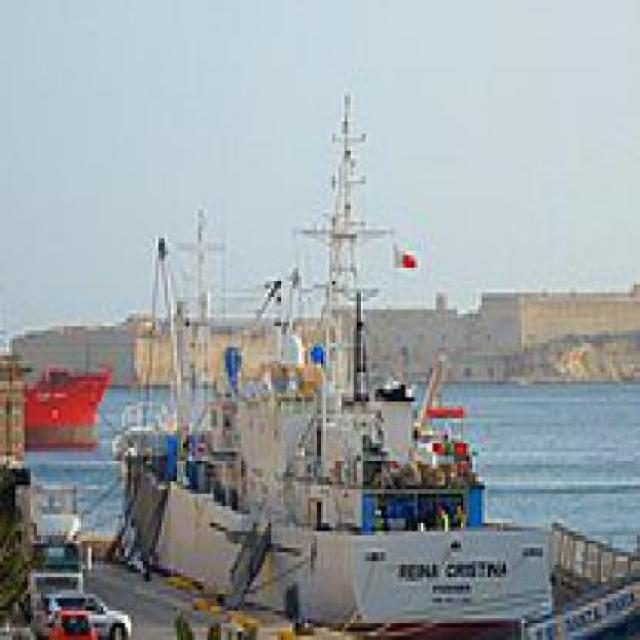container: (96, 89, 568, 636)
